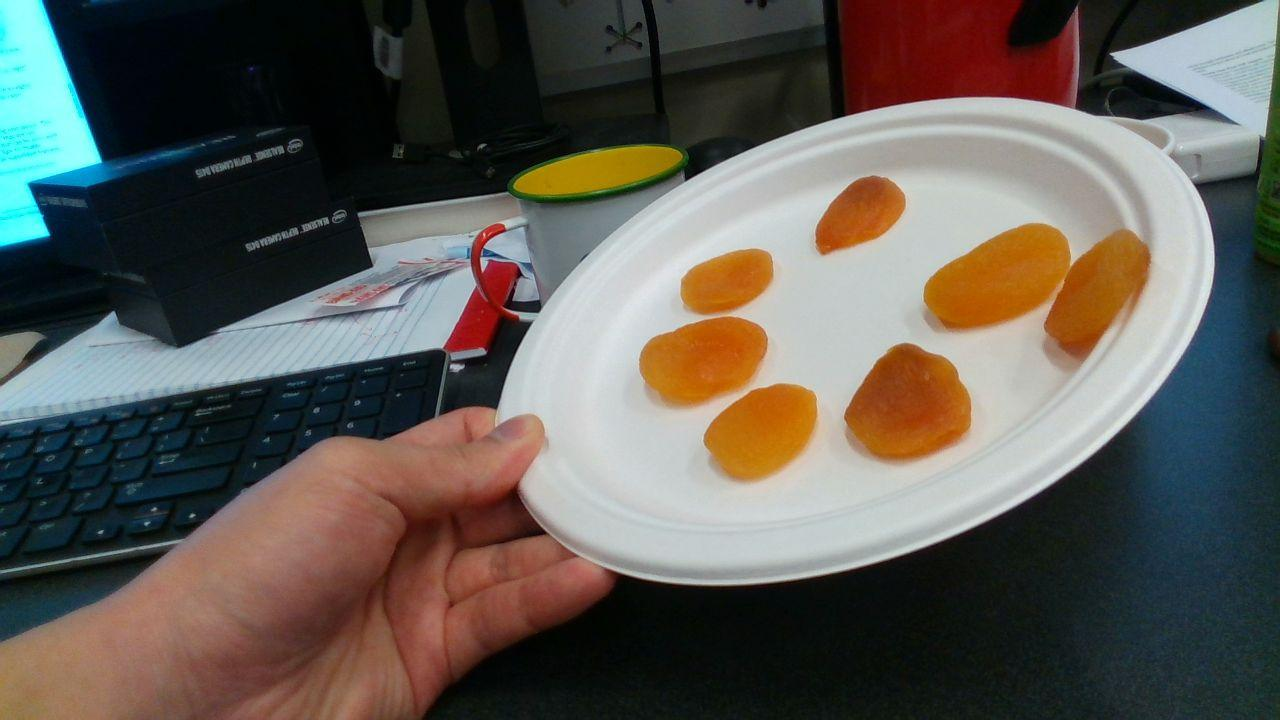apricot: (924, 223, 1070, 322), (845, 345, 971, 455), (1046, 231, 1150, 349), (640, 316, 768, 401), (705, 384, 818, 475), (817, 176, 904, 252), (682, 248, 775, 312)
